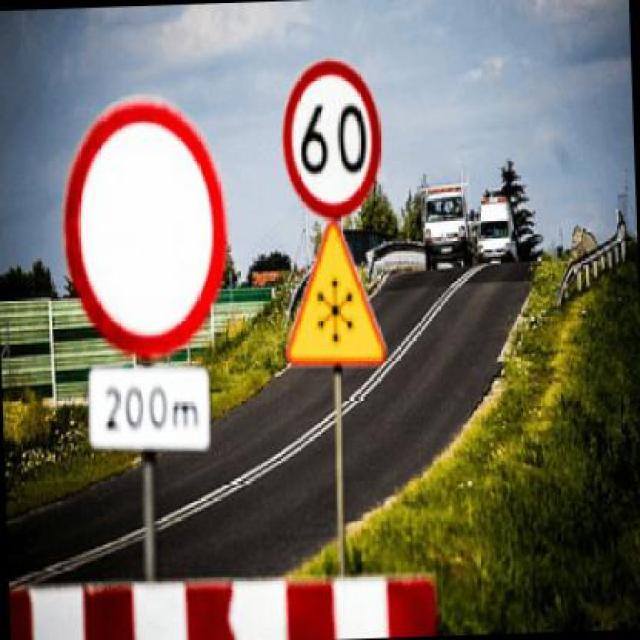Limite-60: (282, 56, 384, 220)
